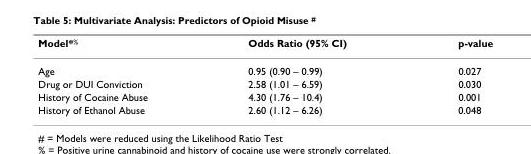table: (37, 36, 492, 115)
table column: (197, 36, 401, 115), (37, 36, 197, 115), (401, 36, 492, 115)
table column header: (37, 36, 492, 56)
table row: (37, 56, 492, 77), (37, 36, 492, 56), (37, 77, 492, 90), (37, 102, 492, 115), (37, 90, 492, 102)
